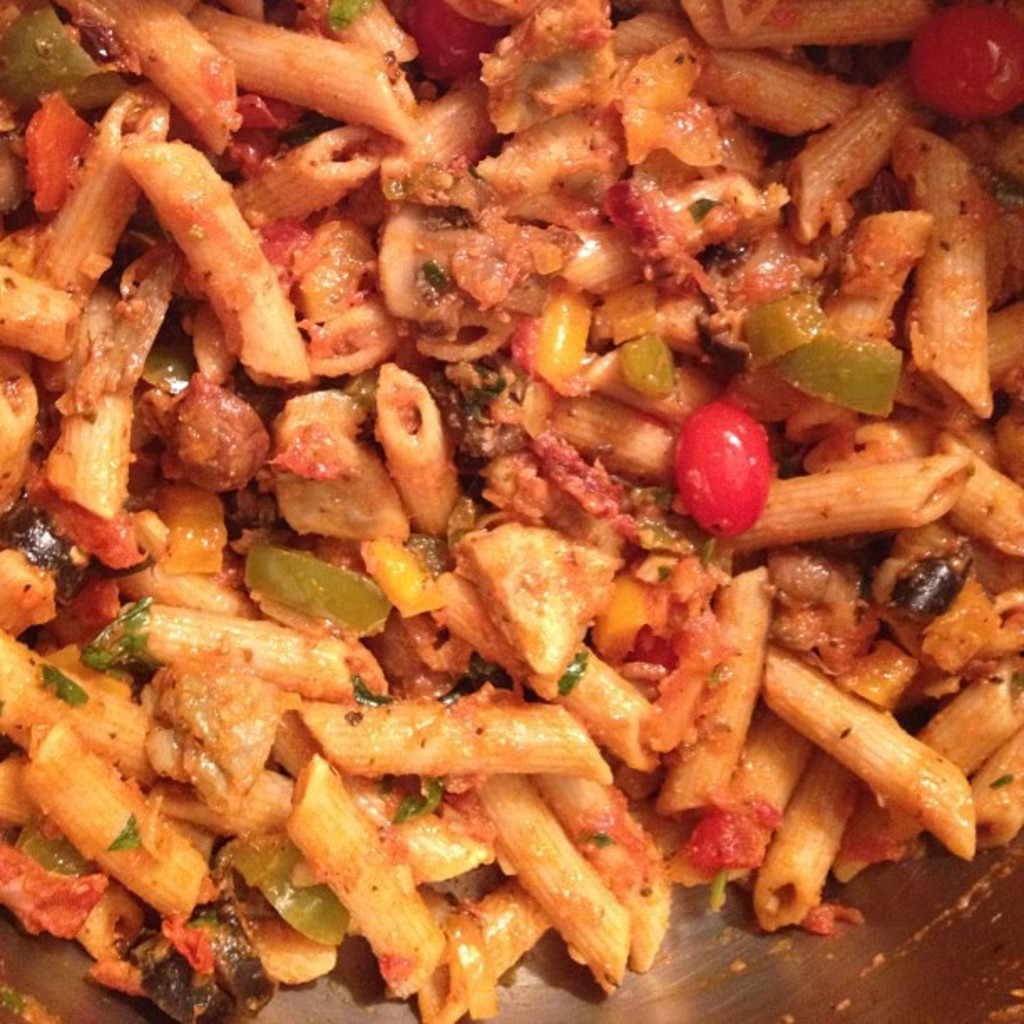pasta: (12, 0, 1019, 986)
